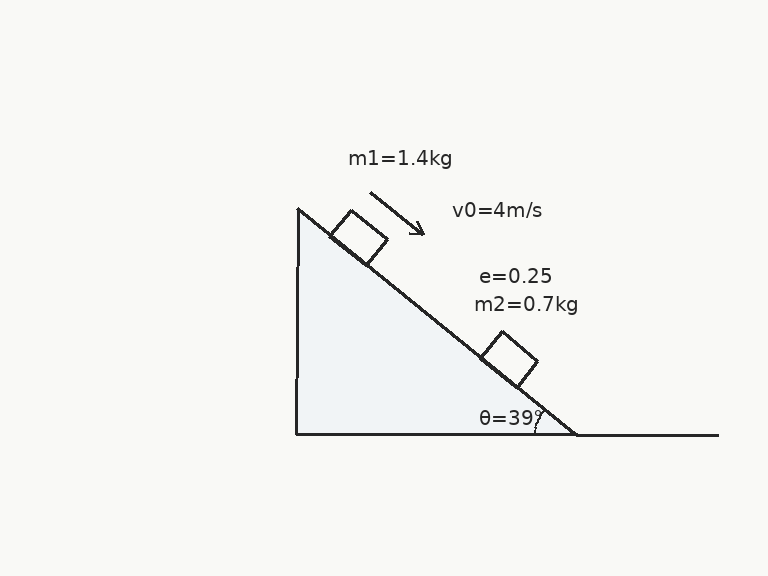block: (327, 208, 389, 267), (478, 330, 540, 389)
ramp: (295, 208, 577, 437)
